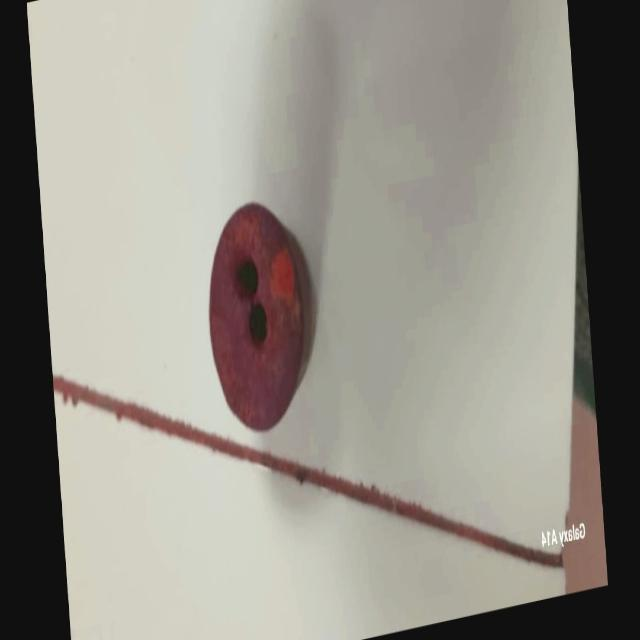Stopper: (195, 186, 328, 448)
